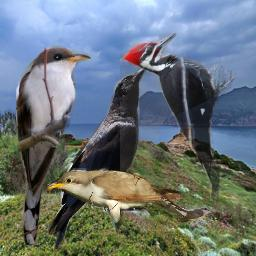Crow: (47, 65, 149, 249)
Cuckoo: (14, 45, 91, 245), (44, 168, 185, 235), (161, 195, 214, 229)
Woodpecker: (120, 33, 236, 203)
